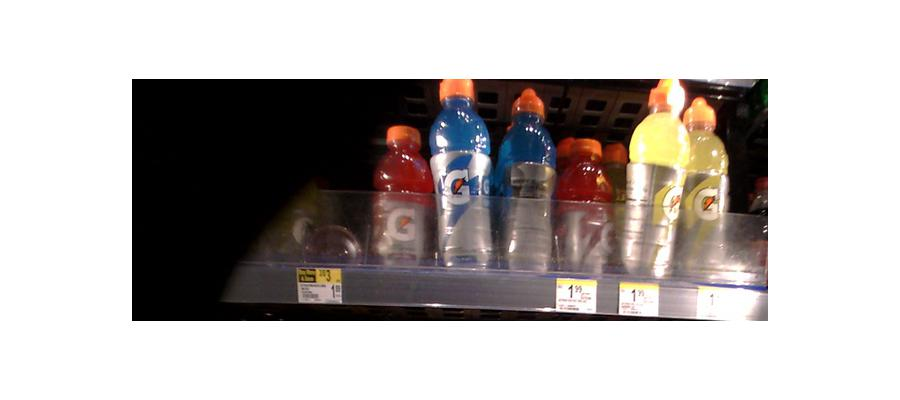bottle: (622, 86, 684, 280), (433, 77, 494, 272), (497, 89, 557, 274), (367, 121, 431, 273), (681, 93, 731, 281), (557, 136, 613, 277)
